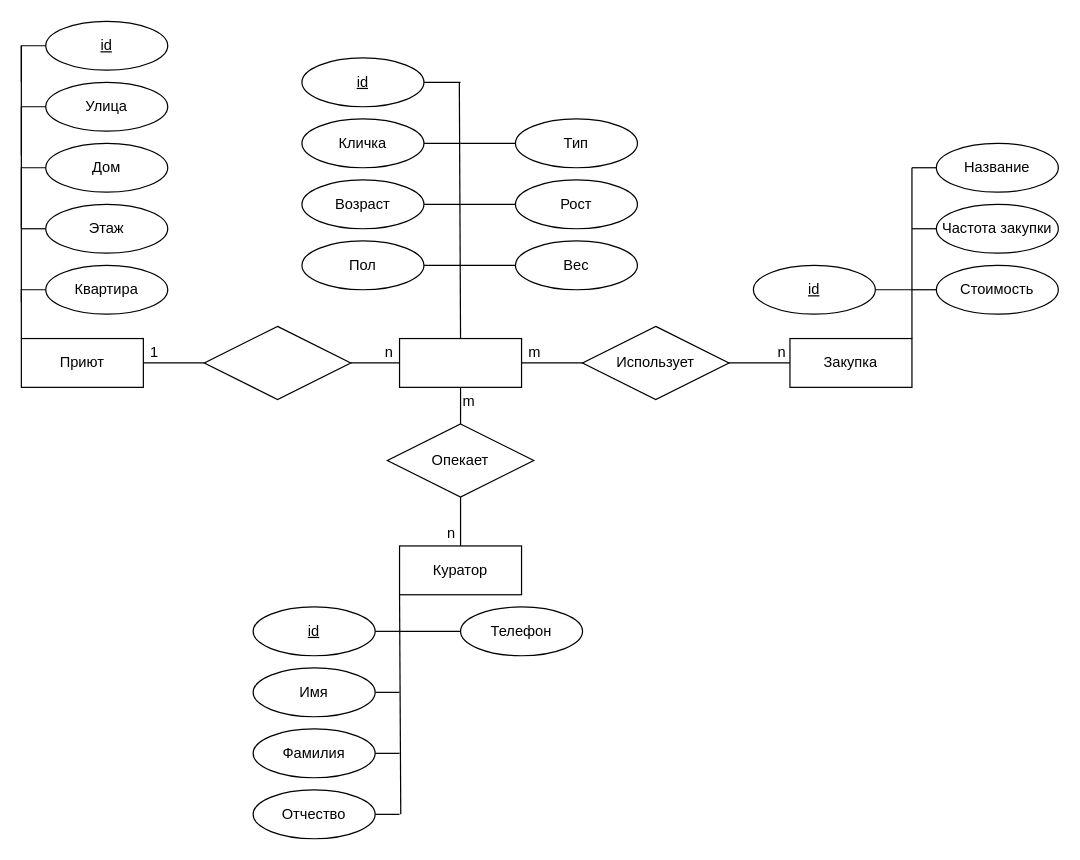
The diagram is 1080 pixels wide and 860 high, and some of its shapes have lost their labels. The shapes that lost their labels are listed below. From the top down, each one's centre as x and y in pixels, then its label:
pixel 277 362: Содержит
pixel 460 362: Животное
